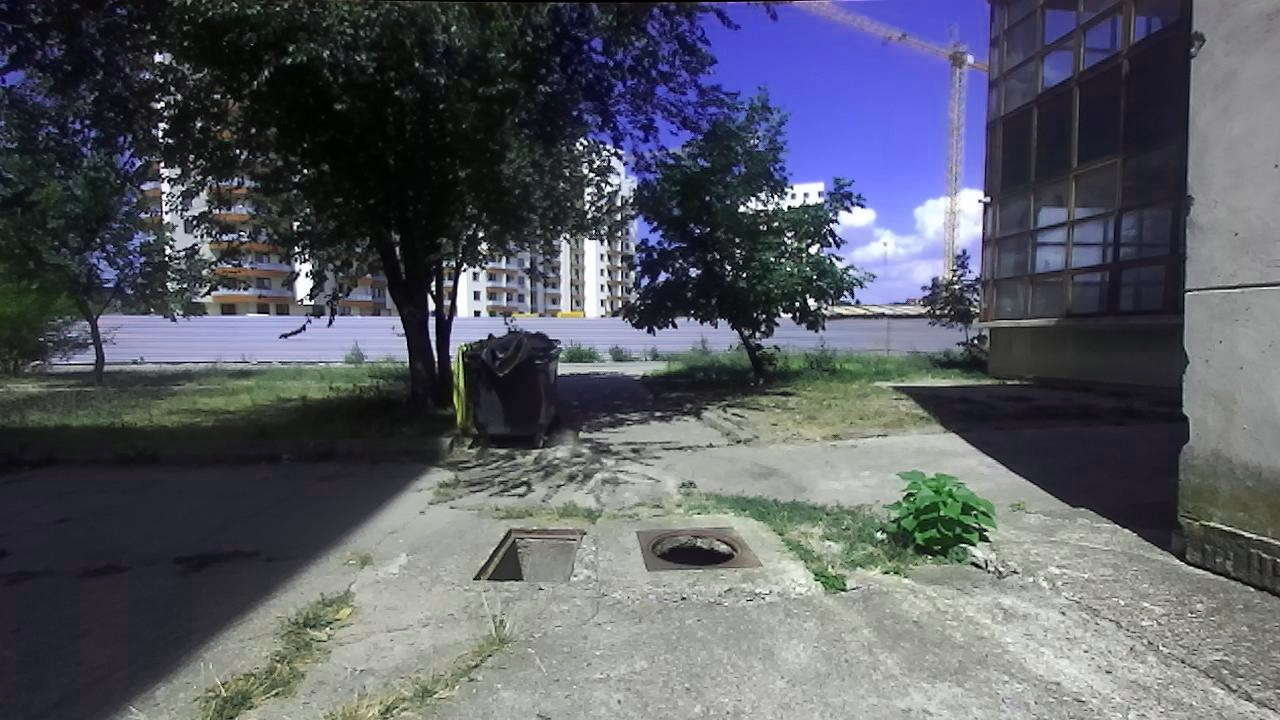drain: (472, 523, 588, 584), (644, 527, 743, 568)
